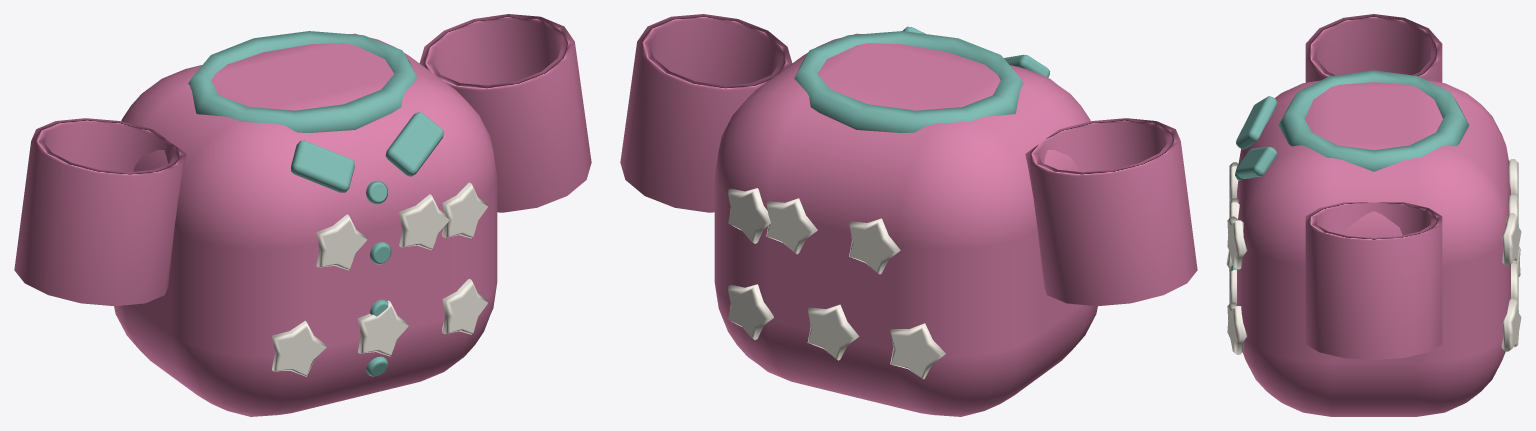
The model's file is bold_aloha_shirt.glb.
The picture shows the model from 3 angles, left to right: view 1: azimuth 30°, elevation 25°; view 2: azimuth 150°, elevation 25°; view 3: azimuth 270°, elevation 25°; orthographic projection. The views are drawn at different scales.
Parts seen in each view (by area): view 1: bold_aloha_shirt_Body, bold_aloha_shirt_ArmL, bold_aloha_shirt_ArmR; view 2: bold_aloha_shirt_Body, bold_aloha_shirt_ArmL, bold_aloha_shirt_ArmR; view 3: bold_aloha_shirt_Body, bold_aloha_shirt_ArmR, bold_aloha_shirt_ArmL.
Boxes of the visible parts, x1=… form: bold_aloha_shirt_Body: x1=114, y1=31, x2=497, y2=416; bold_aloha_shirt_ArmL: x1=14, y1=118, x2=186, y2=306; bold_aloha_shirt_ArmR: x1=419, y1=14, x2=591, y2=212; bold_aloha_shirt_Body: x1=714, y1=26, x2=1097, y2=416; bold_aloha_shirt_ArmL: x1=1025, y1=118, x2=1197, y2=306; bold_aloha_shirt_ArmR: x1=620, y1=14, x2=792, y2=212; bold_aloha_shirt_Body: x1=1226, y1=70, x2=1521, y2=416; bold_aloha_shirt_ArmR: x1=1305, y1=202, x2=1442, y2=359; bold_aloha_shirt_ArmL: x1=1305, y1=14, x2=1442, y2=82.
Size of the model in its own units: 0.6053 by 0.3119 by 0.312.
